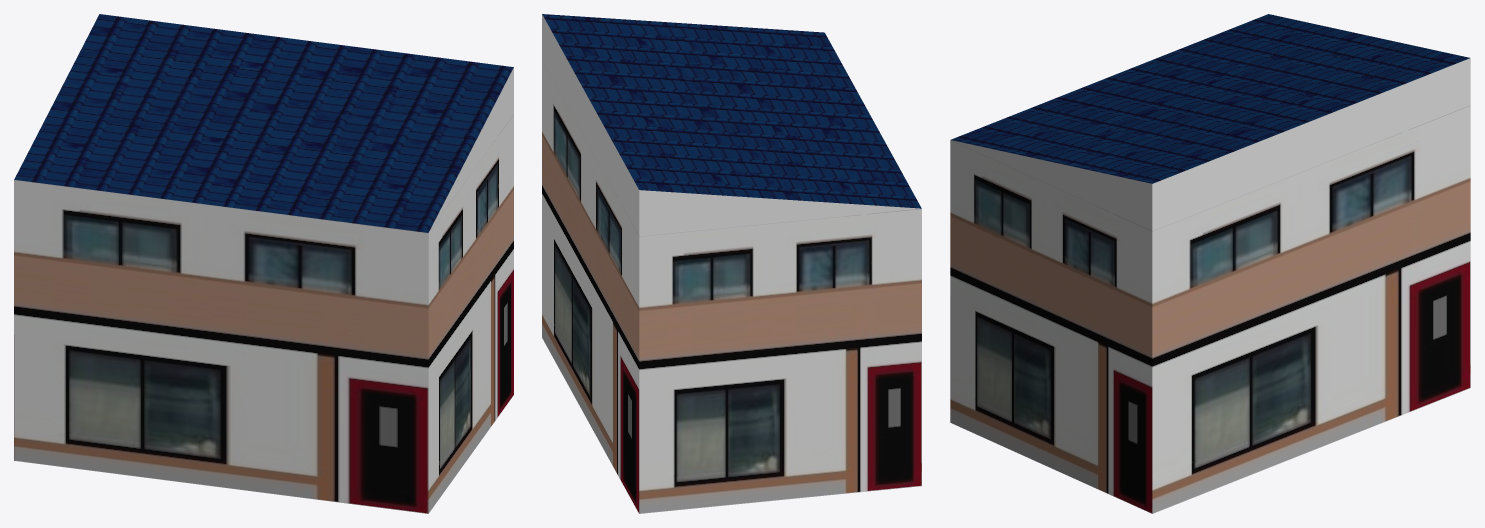
The picture shows the model from 3 angles, left to right: view 1: azimuth 30°, elevation 25°; view 2: azimuth 150°, elevation 25°; view 3: azimuth 270°, elevation 25°; orthographic projection.
Parts seen in each view (by area): view 1: CityEngineMaterial_5_m, CityEngineMaterial_6_m, CityEngineMaterial_3_m; view 2: CityEngineMaterial_5_m, CityEngineMaterial_6_m, CityEngineMaterial_3_m; view 3: CityEngineMaterial_5_m, CityEngineMaterial_6_m, CityEngineMaterial_3_m.
Boxes of the visible parts, x1,y1,x2,y2 form: CityEngineMaterial_5_m: (14,114,513,513); CityEngineMaterial_6_m: (14,14,513,232); CityEngineMaterial_3_m: (429,67,513,231); CityEngineMaterial_5_m: (542,60,921,513); CityEngineMaterial_6_m: (542,14,921,208); CityEngineMaterial_3_m: (542,14,919,236); CityEngineMaterial_5_m: (950,105,1470,513); CityEngineMaterial_6_m: (951,14,1469,183); CityEngineMaterial_3_m: (951,58,1470,230).
Bounding box in the file's own units: 15.26 × 10.82 × 15.46.
